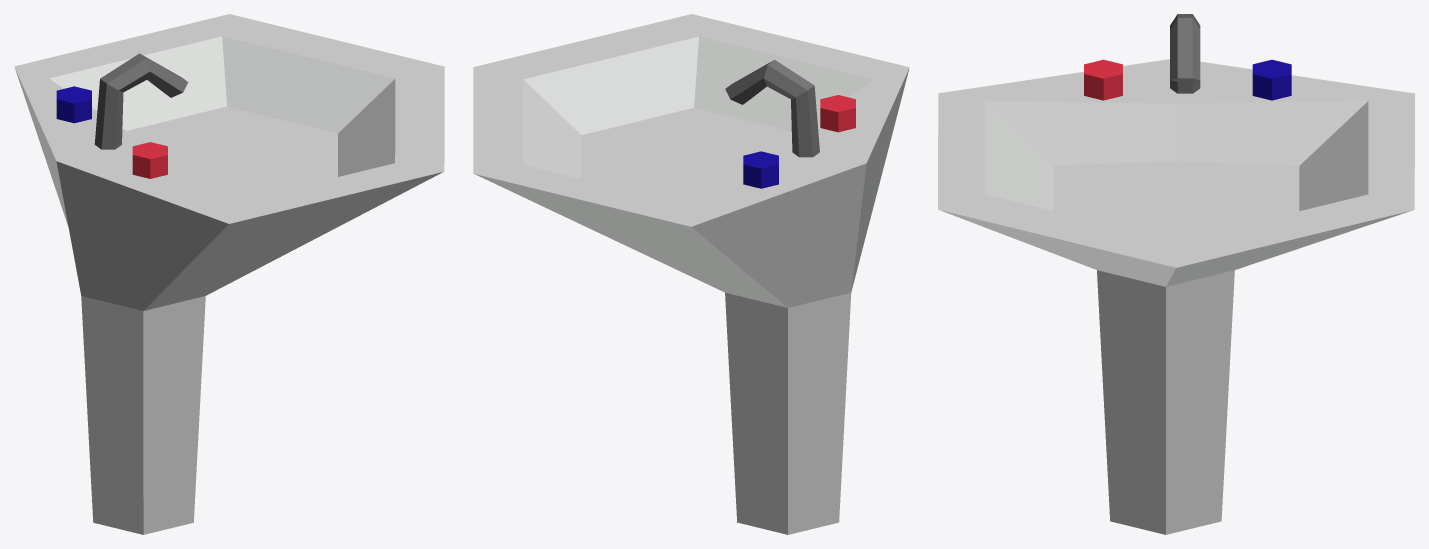
The model's file is rakona.fbx.
3 views of the same model, side by side, from view 1: azimuth 30°, elevation 25°; view 2: azimuth 150°, elevation 25°; view 3: azimuth 270°, elevation 25° (orthographic). The views are drawn at different scales.
Visible parts, largest first — view 1: rakona; view 2: rakona; view 3: rakona.
Part boxes in pixels (x1,y1,x2,y2): rakona: [14, 14, 444, 534]; rakona: [473, 14, 909, 534]; rakona: [938, 14, 1414, 534].
Size of the model in its own units: 125 by 137 by 120.
